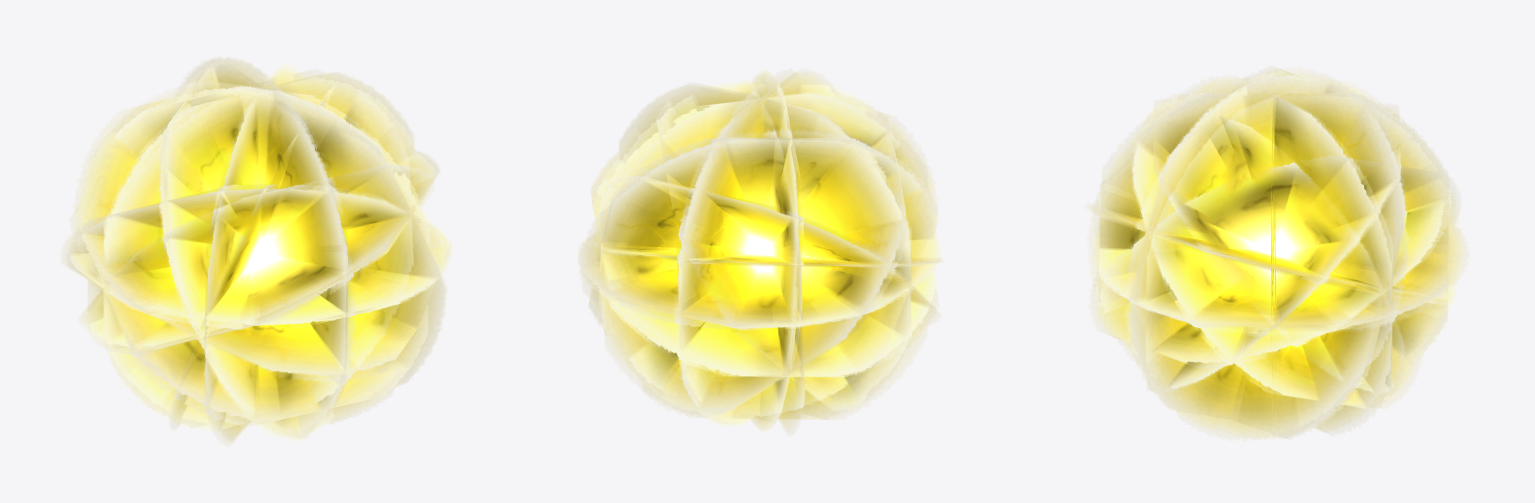
Rendered from explosion-yellow.glb.
The picture shows the model from 3 angles, left to right: view 1: azimuth 30°, elevation 25°; view 2: azimuth 150°, elevation 25°; view 3: azimuth 270°, elevation 25°; orthographic projection. The views are drawn at different scales.
Parts seen in each view (by area): view 1: Object_2; view 2: Object_2; view 3: Object_2.
Boxes of the visible parts, box(x1,y1,x2,y2) form: Object_2: box(67, 59, 449, 441); Object_2: box(580, 72, 940, 428); Object_2: box(1092, 69, 1462, 437).
Size of the model in its own units: 7.06 by 7.07 by 7.07.
1 material, 1 textured.
